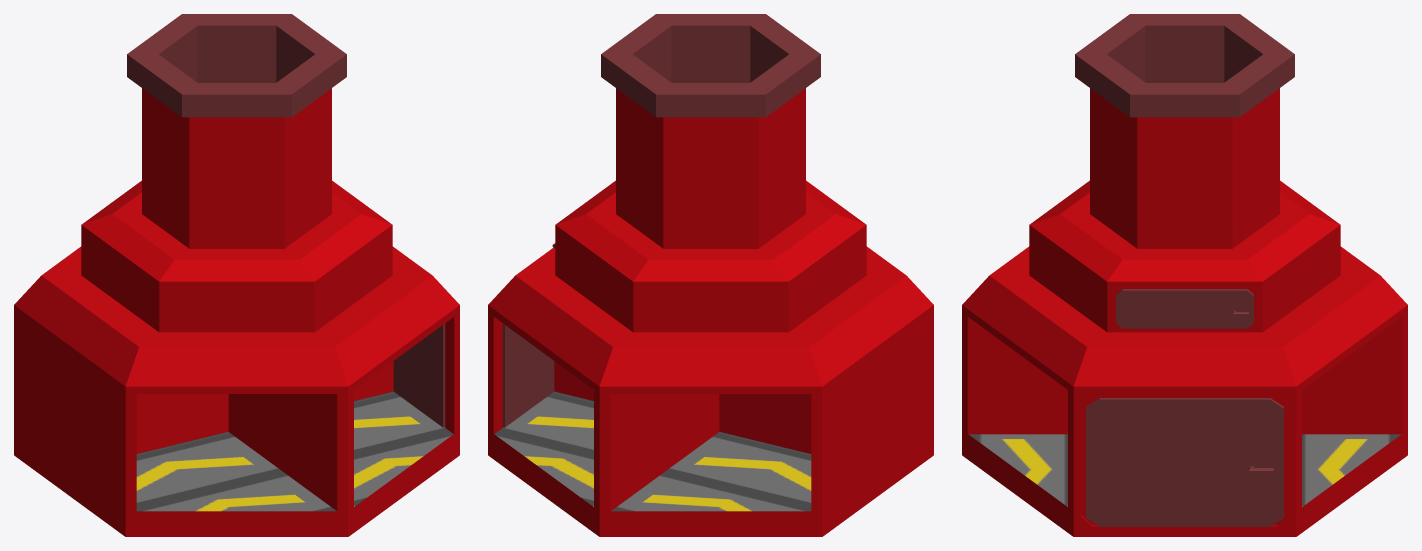
Rendered from furnace.fbx.
3 renders of one model, left to right at view 1: azimuth 30°, elevation 25°; view 2: azimuth 150°, elevation 25°; view 3: azimuth 270°, elevation 25°, orthographic.
Visible parts, largest first — view 1: Cylinder, Cube; view 2: Cylinder, Cube; view 3: Cylinder, Cube, Cube.002.
Boxes of the visible parts, x1,y1,x2,y2 form: Cylinder: (14,14,459,536); Cube: (393,323,445,427); Cylinder: (488,14,933,536); Cube: (502,323,554,427); Cylinder: (962,14,1407,536); Cube: (1086,398,1283,526); Cube.002: (1116,289,1253,328).
Size of the model in its own units: 180 by 201 by 203.
